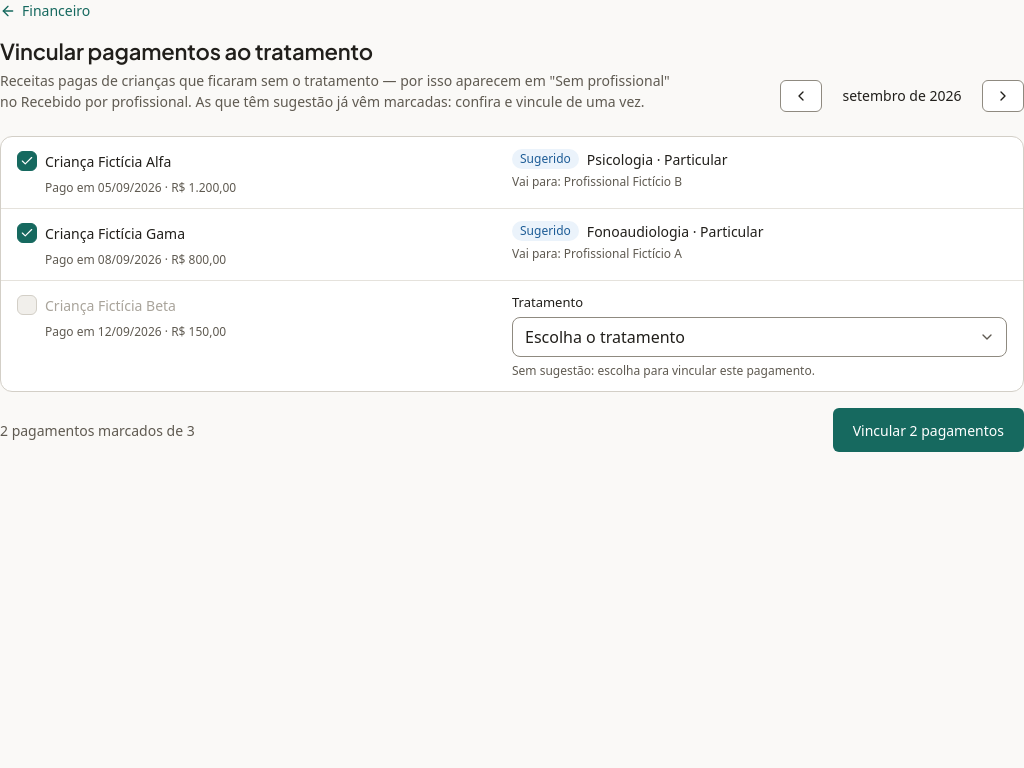
Test case: Vincular pagamentos — confirmar e enviar › deve manter o diálogo aberto com a razão quando a recusa não é de linha
Check: the checkbox named "Criança Fictícia Alfa" next to "Criança Fictícia Alfa" is shown, box [17,151,37,171]
Click the button "Vincular 2 pagamentos": {"x": 928, "y": 430} [833,408,1023,452]
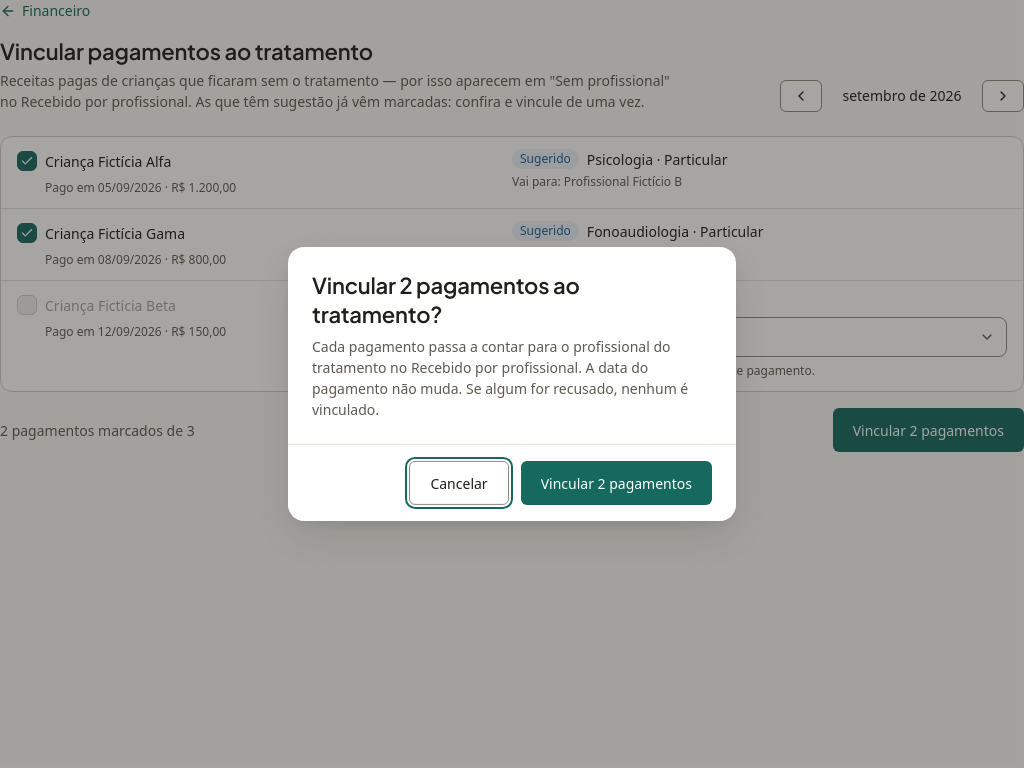
Click the button "Vincular 2 pagamentos": {"x": 616, "y": 483} [521,461,712,505]
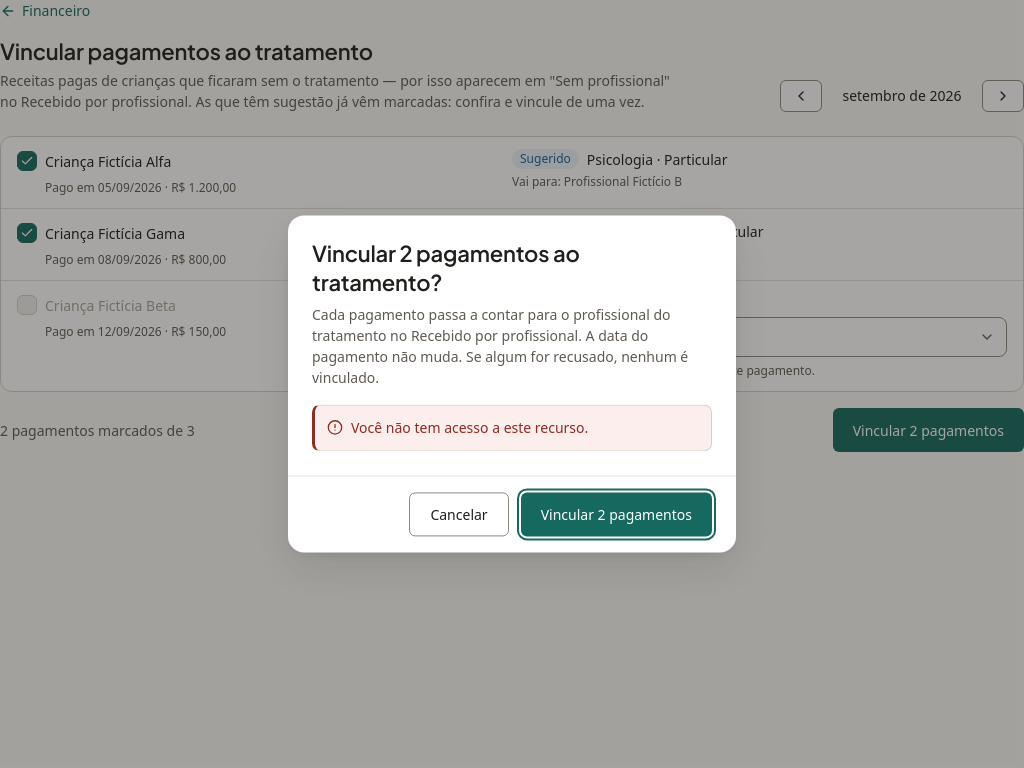
Check: the dialog is shown, box [288,215,736,553]
Check: the text "Você não tem acesso a este recurso." is shown, box [351,418,588,439]
